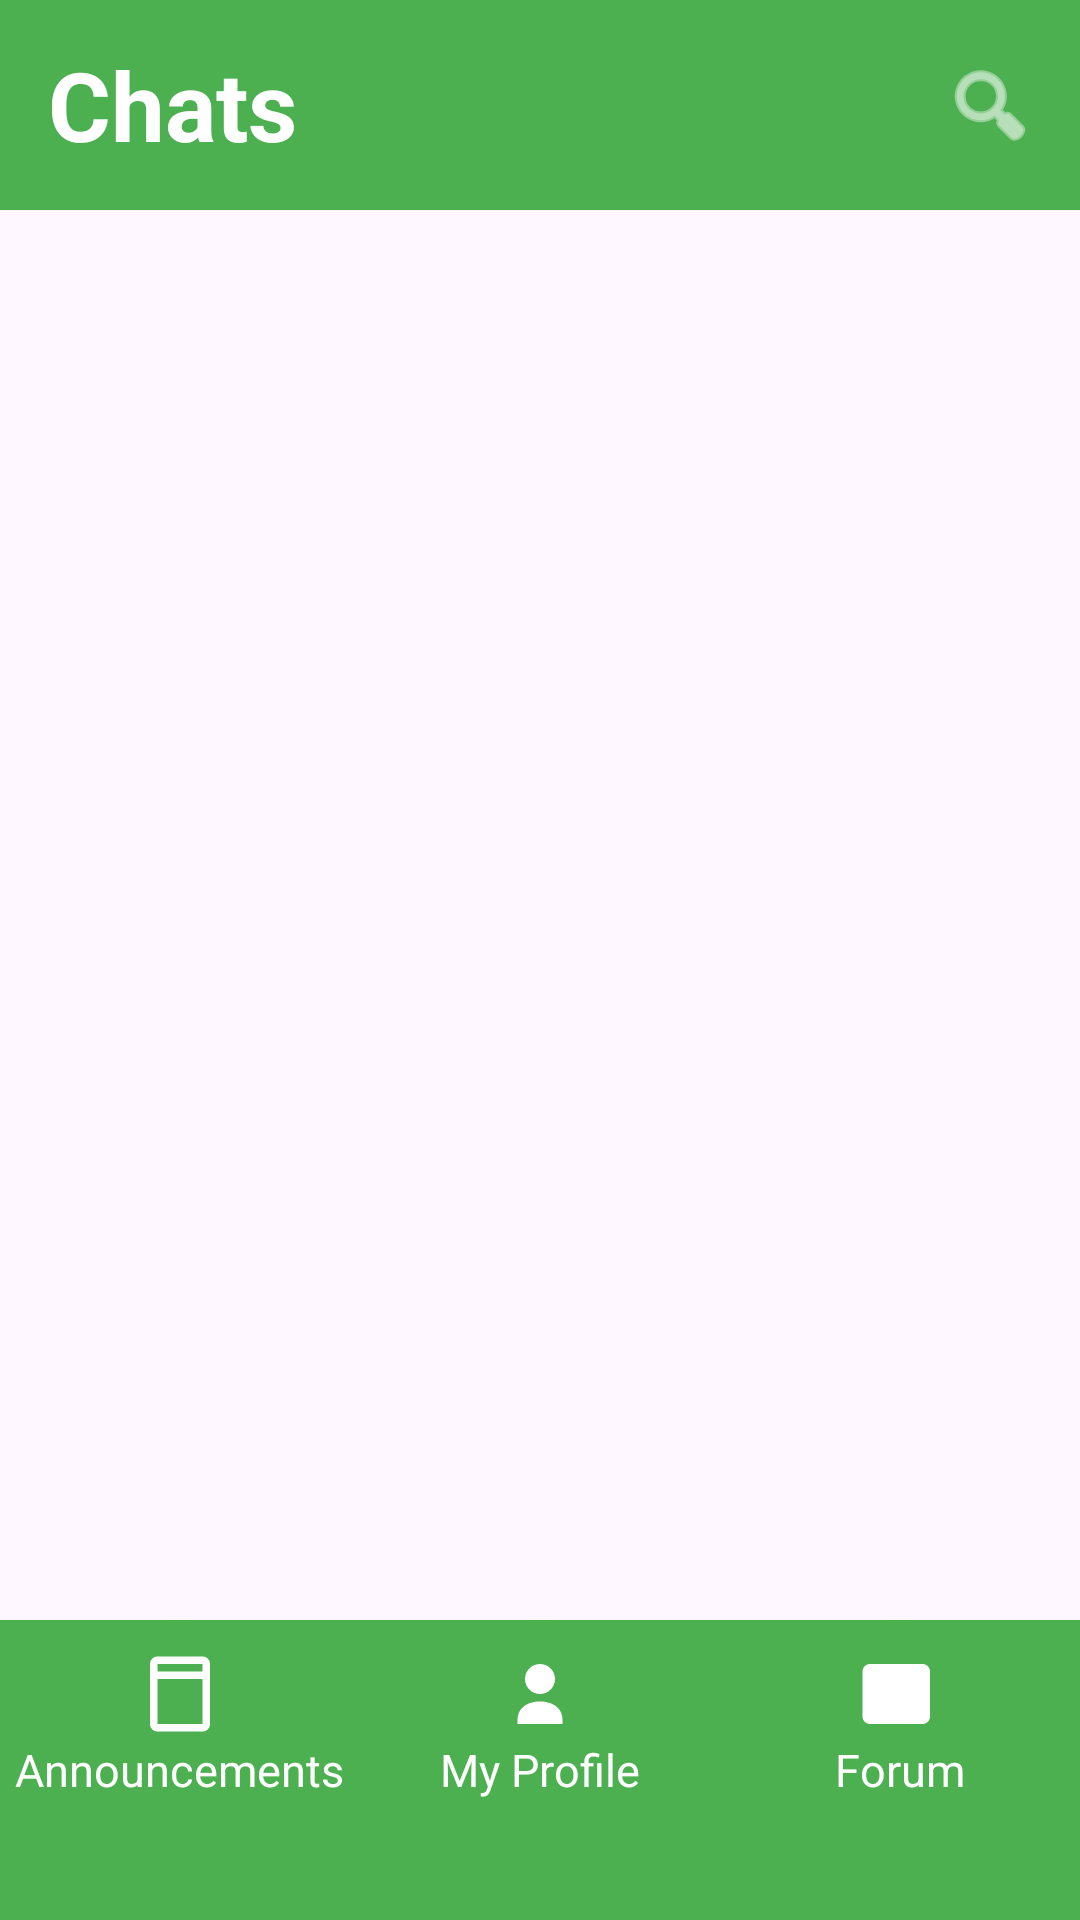

Icon bounding boxes for this 1080px×1920px phone screenshot, format (x1, y1, x2, y2):
search: (955, 70, 1025, 141)
